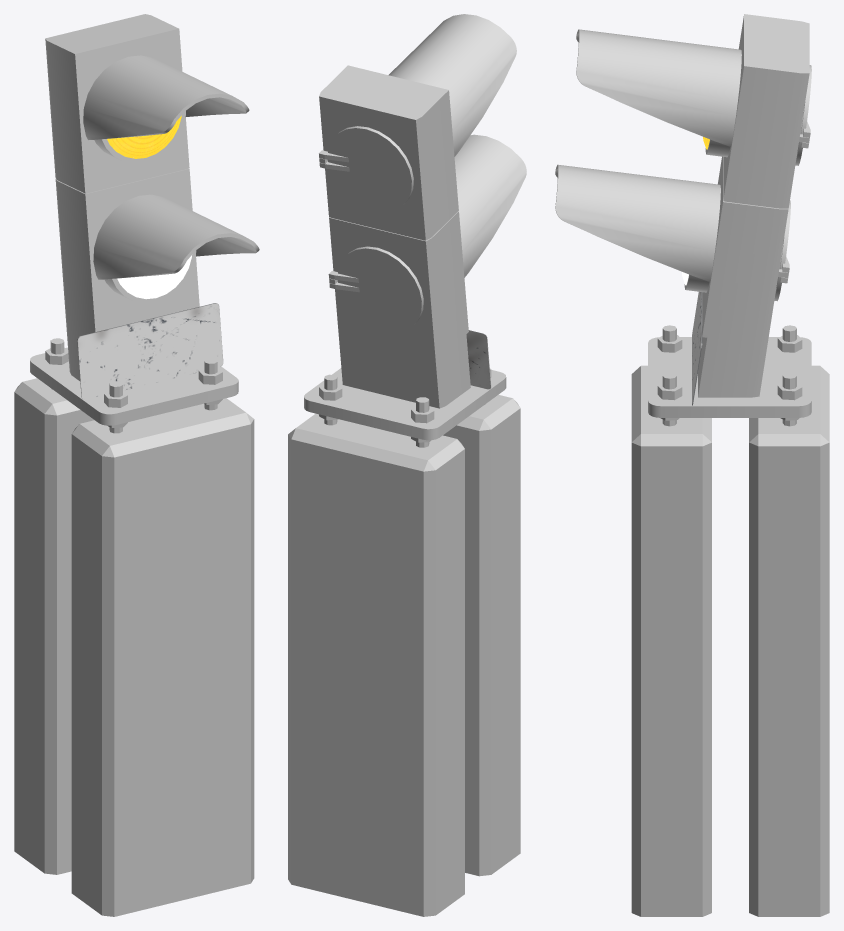
File: ShuntingSignal.fbx
The picture shows the model from 3 angles, left to right: view 1: azimuth 30°, elevation 25°; view 2: azimuth 150°, elevation 25°; view 3: azimuth 270°, elevation 25°; orthographic projection. The views are drawn at different scales.
Parts seen in each view (by area): view 1: PL2AspectDistant, LocationSign, 2White, 1Blue; view 2: PL2AspectDistant, LocationSign; view 3: PL2AspectDistant, LocationSign.
Boxes of the visible parts, x1,y1,x2,y2 form: PL2AspectDistant: (14,14,259,916); LocationSign: (77,303,223,399); 2White: (117,255,191,299); 1Blue: (107,115,181,158); PL2AspectDistant: (288,14,526,916); LocationSign: (466,330,491,389); PL2AspectDistant: (555,14,829,916); LocationSign: (692,291,702,405).
Size of the model in its own units: 41.62 by 215 by 63.4.
